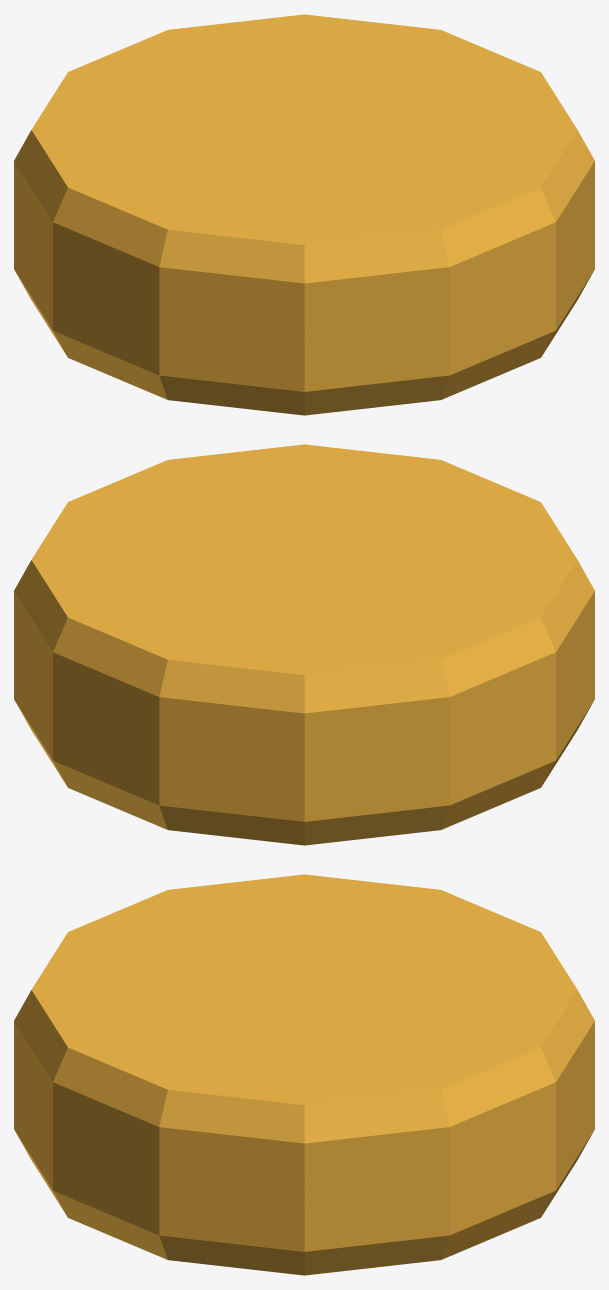
Rendered from cheese.fbx.
3 views of the same model, one above another, from view 1: azimuth 30°, elevation 25°; view 2: azimuth 150°, elevation 25°; view 3: azimuth 270°, elevation 25° (orthographic).
Parts seen in each view (by area): view 1: wedge (×12); view 2: wedge (×12); view 3: wedge (×12).
Boxes of the visible parts, x1,y1,x2,y2 form: wedge (×12): [14, 14, 594, 415]; wedge (×12): [14, 444, 594, 845]; wedge (×12): [14, 874, 594, 1275].
Bounding box in the file's own units: 6.8 × 2.2 × 6.8.
